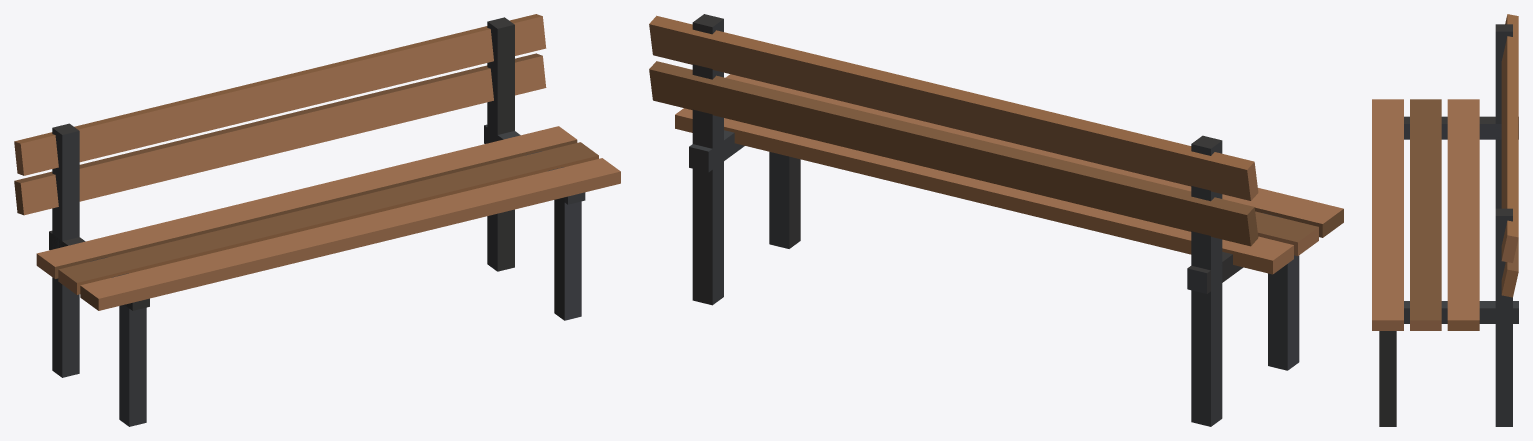
The model's file is detail_benchPark.glb.
3 views of the same model, side by side, from view 1: azimuth 30°, elevation 25°; view 2: azimuth 150°, elevation 25°; view 3: azimuth 270°, elevation 25° (orthographic). The views are drawn at different scales.
Visible parts, largest first — view 1: detail_benchPark_LOD0; view 2: detail_benchPark_LOD0; view 3: detail_benchPark_LOD0.
Boxes of the visible parts, bbox=[...] form: detail_benchPark_LOD0: bbox=[14, 14, 620, 426]; detail_benchPark_LOD0: bbox=[649, 14, 1343, 426]; detail_benchPark_LOD0: bbox=[1372, 14, 1518, 426].
Size of what is drawn, in the model's own units: 1.8 by 0.7998 by 0.5049.
Materials: 1 (1 with a texture image).
